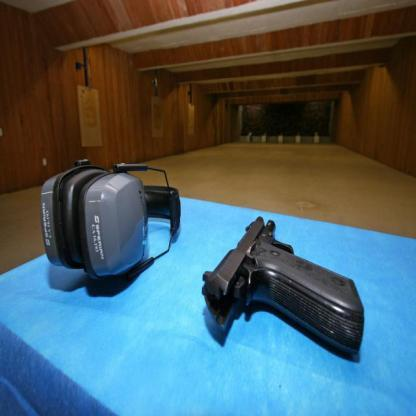weapon: (201, 216, 366, 356)
